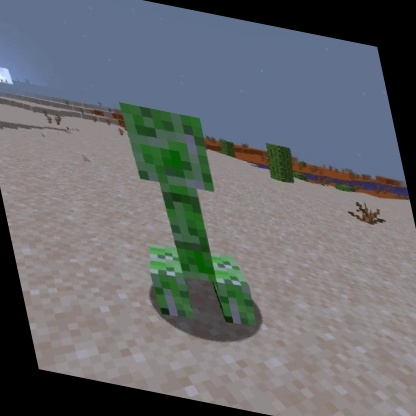creeper: (109, 95, 265, 339)
